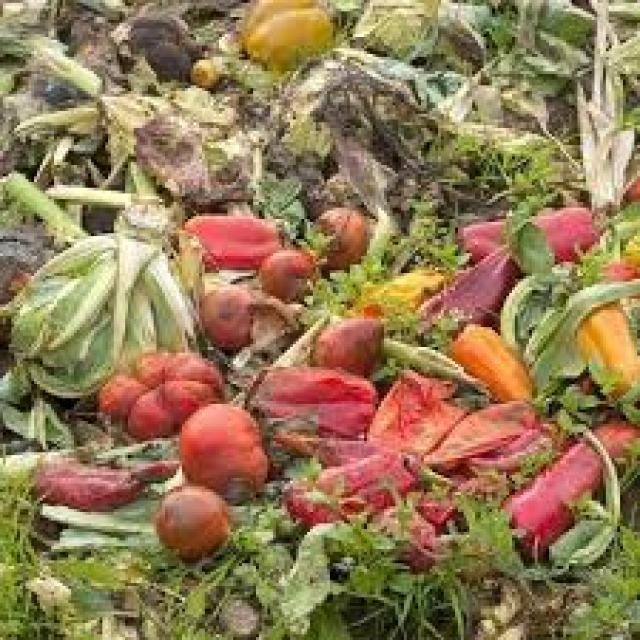Organik: (10, 202, 218, 416), (168, 181, 398, 304), (212, 0, 389, 86), (166, 398, 286, 496), (451, 315, 547, 424), (144, 471, 236, 567)
